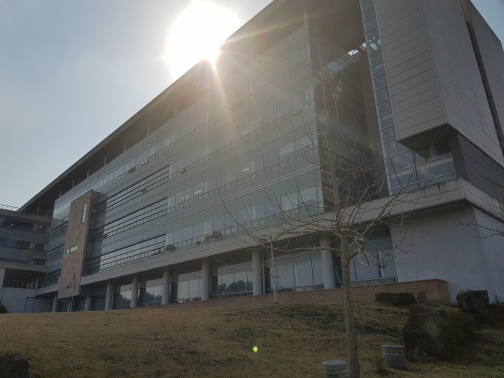Engineering College Building 4: (16, 129, 501, 305), (200, 18, 497, 302), (70, 98, 195, 300)
